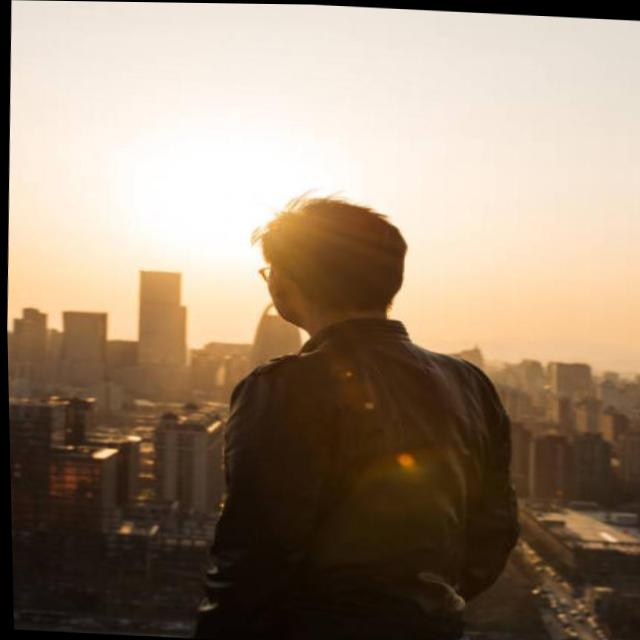no helmet: (238, 173, 415, 348)
